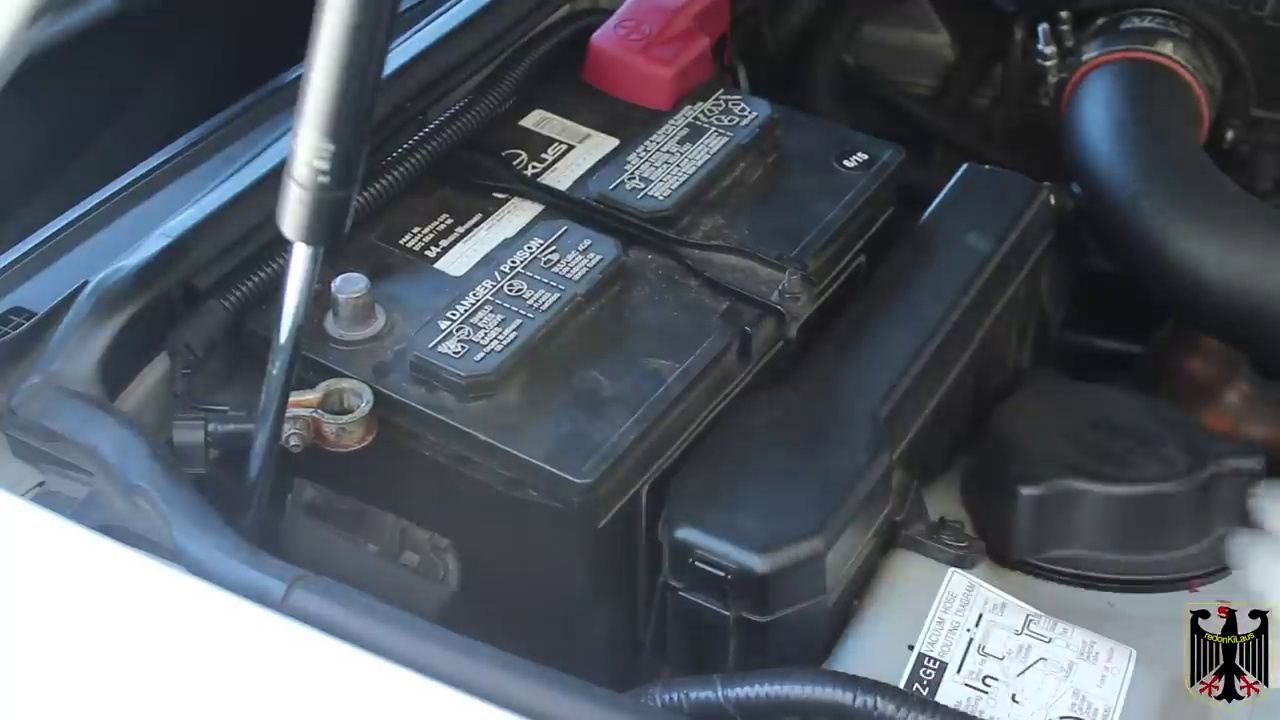battery: (246, 24, 913, 493)
neg_disconnected: (279, 243, 426, 470)
pos_connected: (576, 2, 741, 125)
